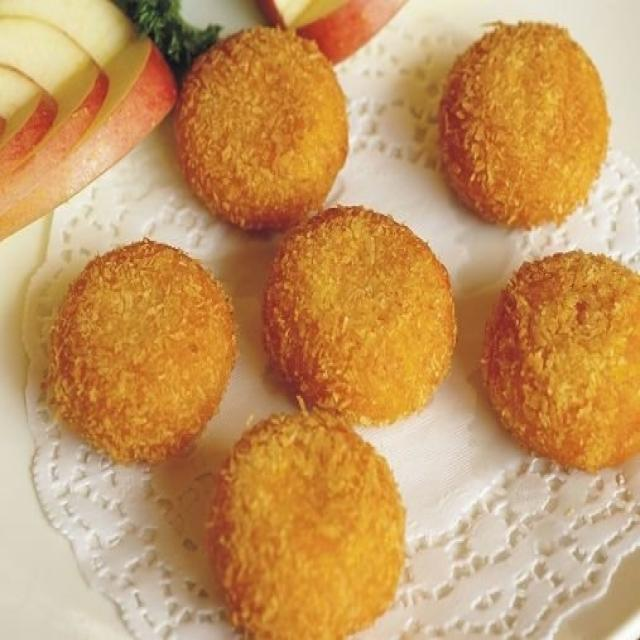炸货点心: (14, 5, 635, 633)
蛋糕甜品: (14, 5, 635, 633)
